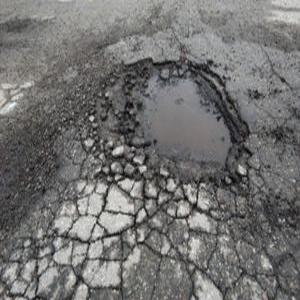pothole: (121, 59, 250, 185)
